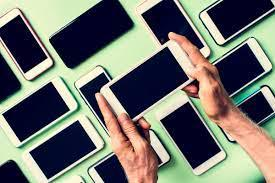Hand: (93, 93, 159, 173), (170, 30, 225, 121)
Smartphone: (115, 46, 188, 124), (55, 0, 126, 64), (161, 101, 225, 168), (5, 81, 69, 143), (0, 8, 53, 81), (137, 0, 208, 53), (31, 127, 94, 180), (221, 41, 268, 92), (206, 0, 275, 31)
